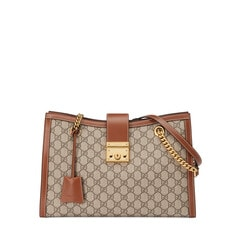Gucci: (24, 97, 194, 226), (85, 154, 181, 213)
